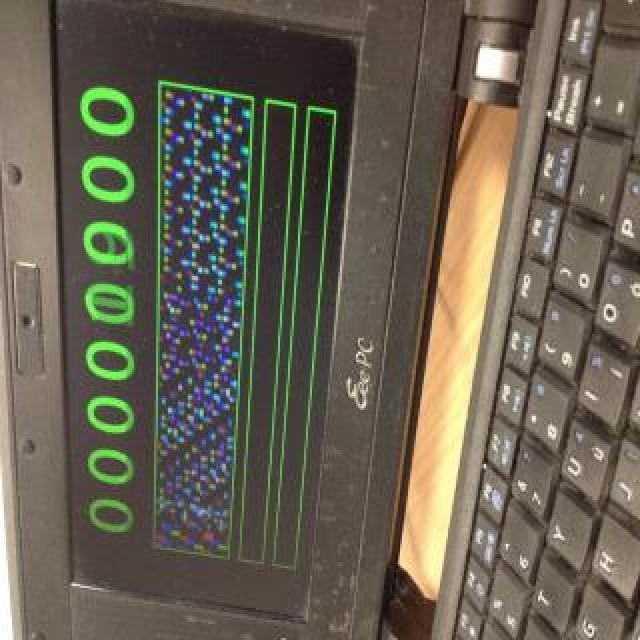laptop_computer: (4, 5, 621, 640)
